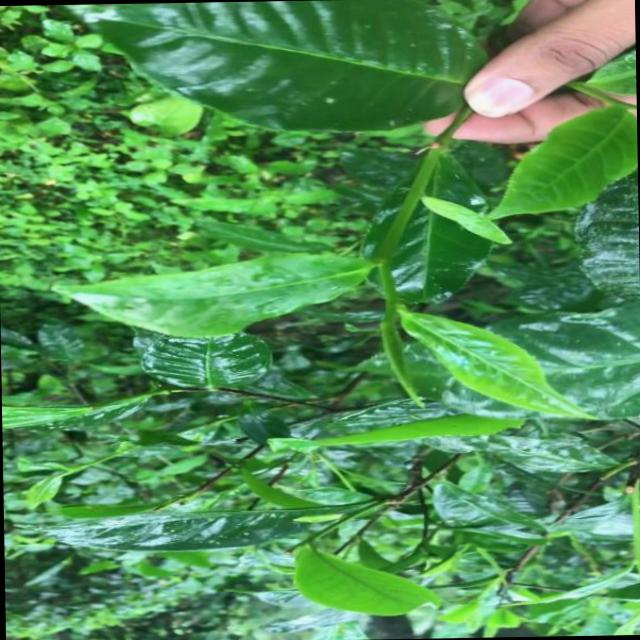Stem: (375, 246, 393, 262)
